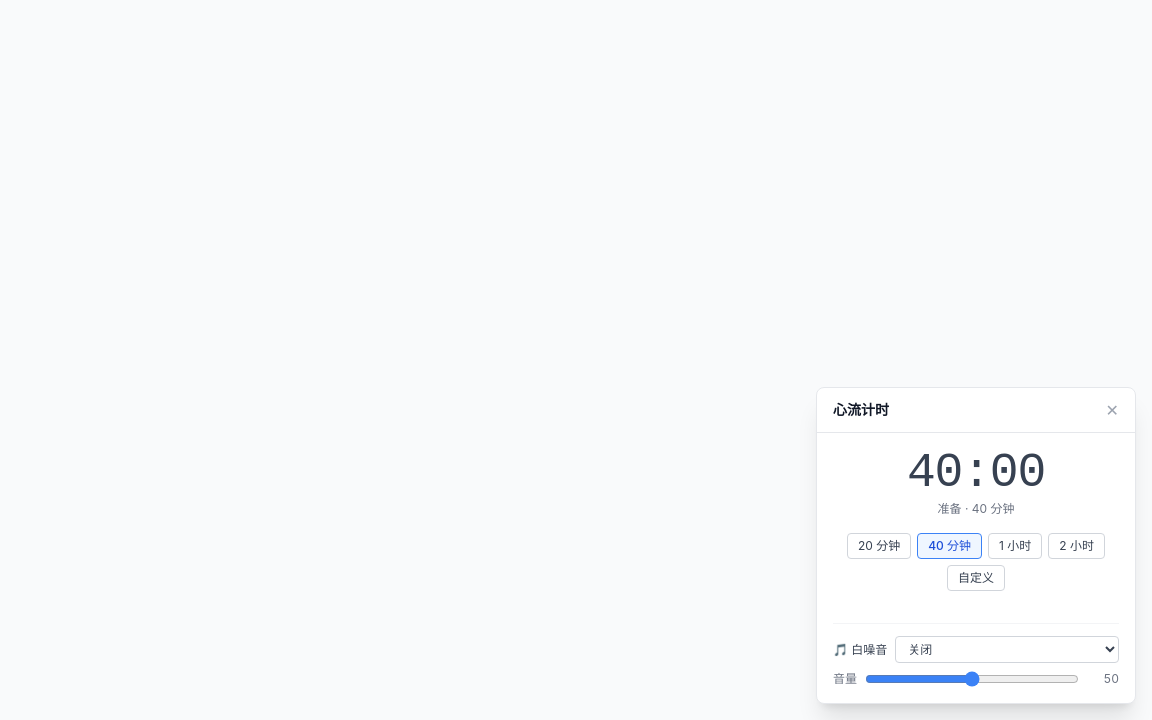
it: FocusTimer › running state shows minimize button; clicking it shows capsule
Click the button "20 分钟".
click(879, 546)  # box [847, 533, 911, 559]
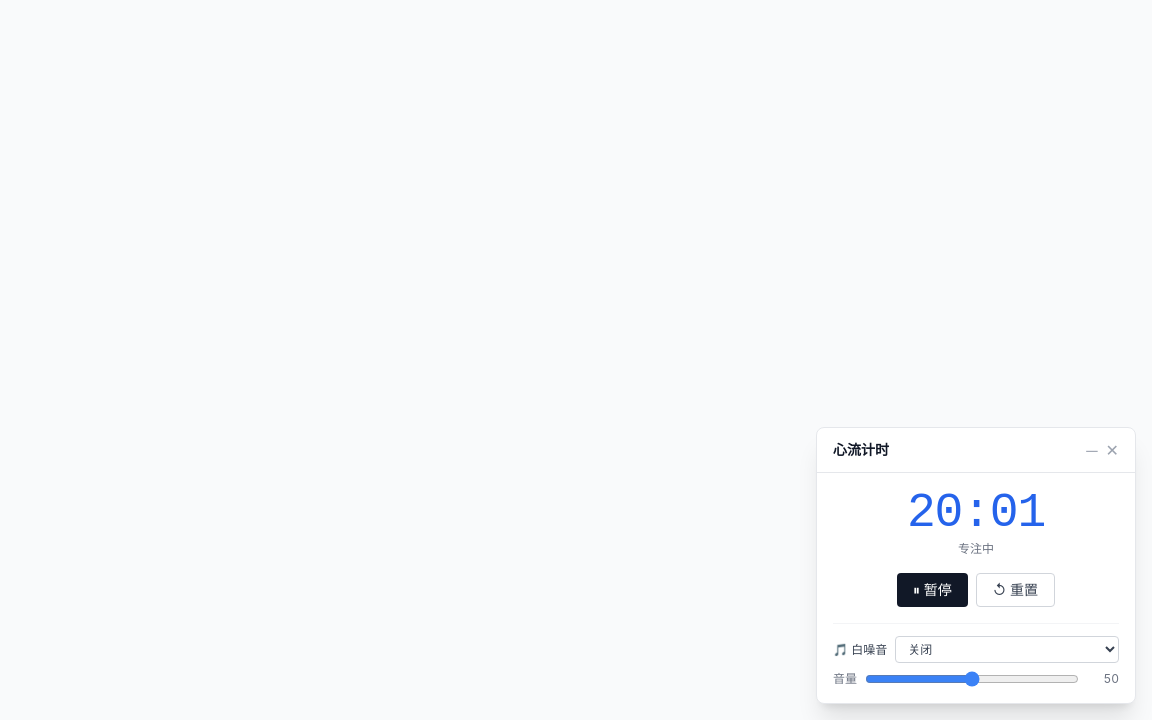
Click the button named "最小化".
click(1092, 450)  # box [1086, 438, 1098, 462]
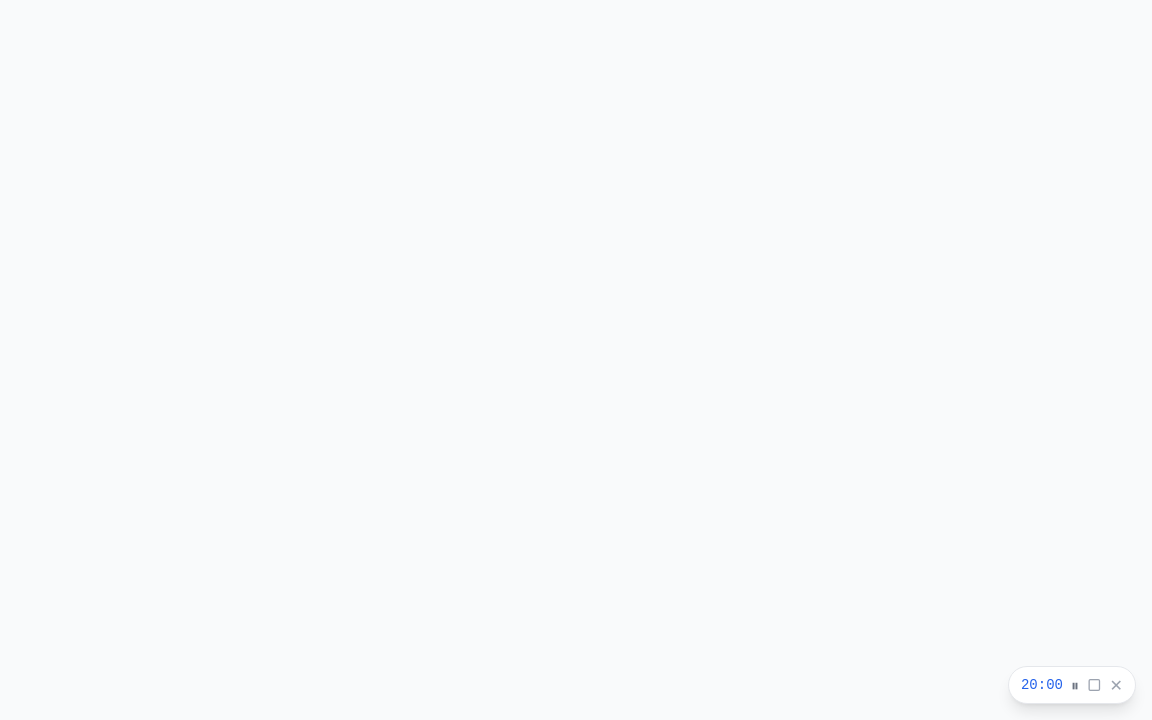
Check: the button named "暂停" is shown, box [1071, 673, 1079, 697]
Check: the dialog named "心流计时(已最小化)" is shown, box [1008, 666, 1136, 704]
Check: the button named "展开" is shown, box [1087, 673, 1102, 697]
